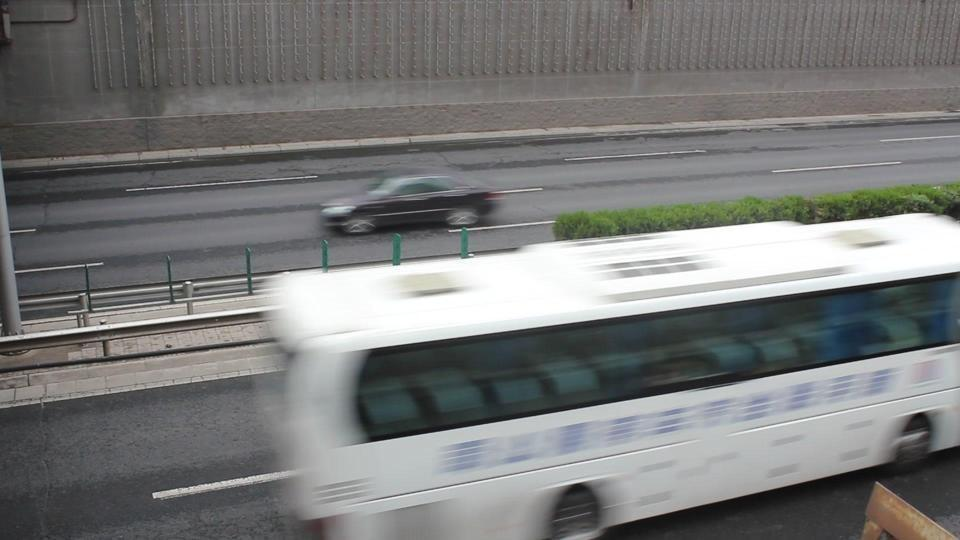car: (319, 174, 507, 236)
